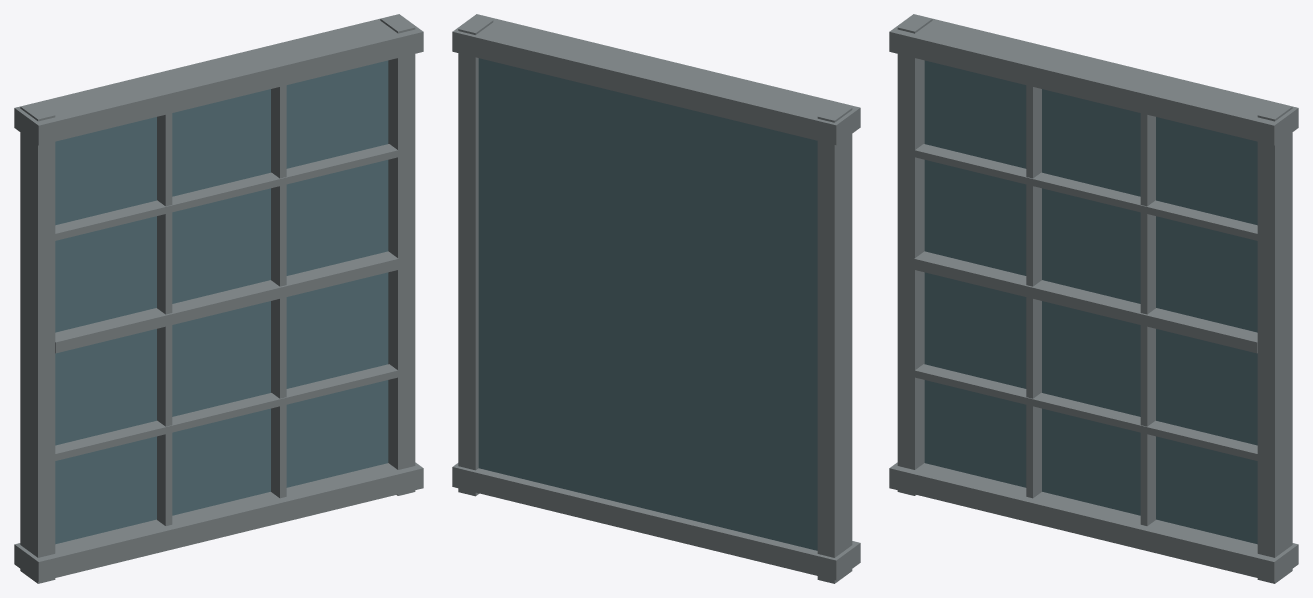
3 renders of one model, left to right at view 1: azimuth 30°, elevation 25°; view 2: azimuth 150°, elevation 25°; view 3: azimuth 330°, elevation 25°, orthographic.
Parts seen in each view (by area): view 1: QH-A0043_V02_geometry; view 2: QH-A0043_V02_geometry; view 3: QH-A0043_V02_geometry.
Boxes of the visible parts, x1,y1,x2,y2 form: QH-A0043_V02_geometry: [14, 14, 423, 583]; QH-A0043_V02_geometry: [452, 14, 860, 583]; QH-A0043_V02_geometry: [889, 14, 1298, 583].
Size of the model in its own units: 2.01 by 2.32 by 0.22.
